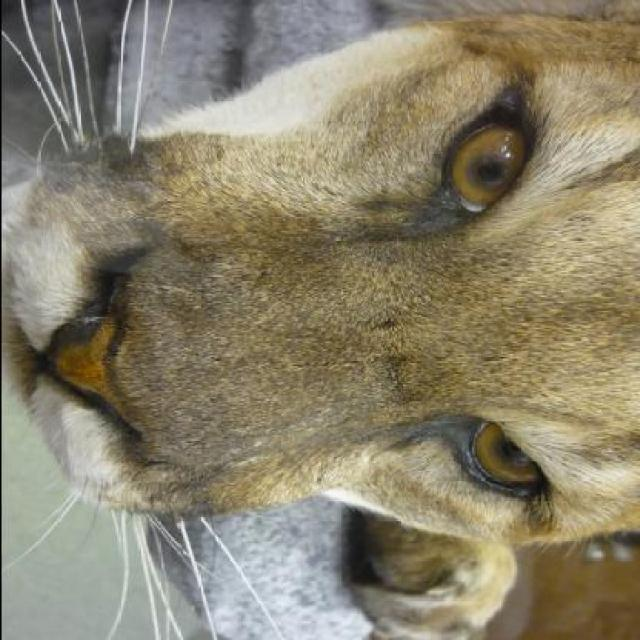Lion: (1, 2, 632, 636)
